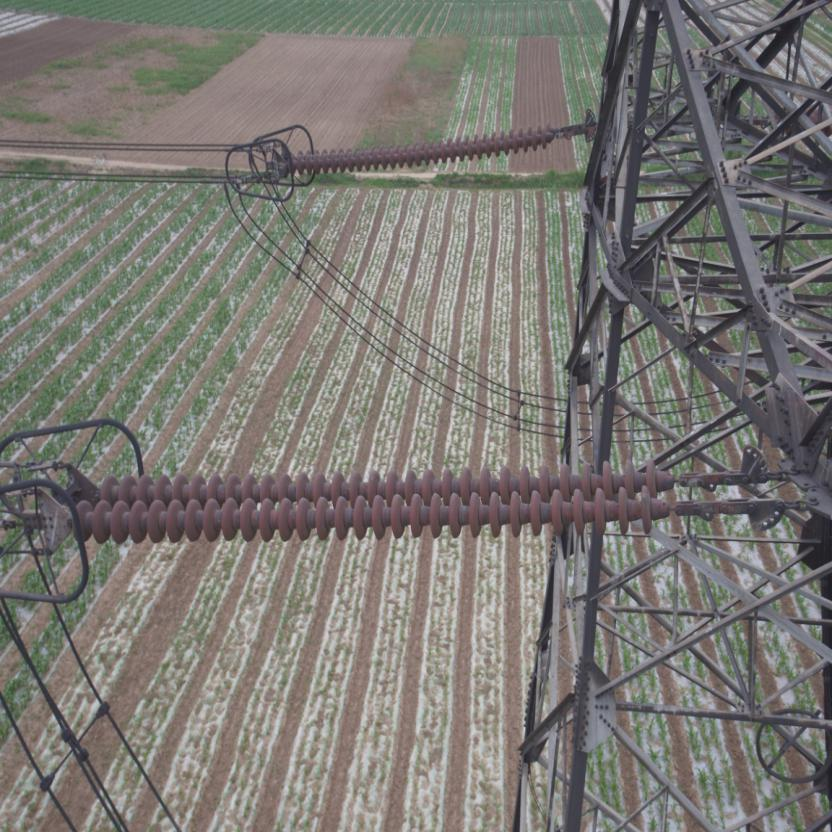insulator: (56, 451, 700, 545), (279, 120, 565, 176)
